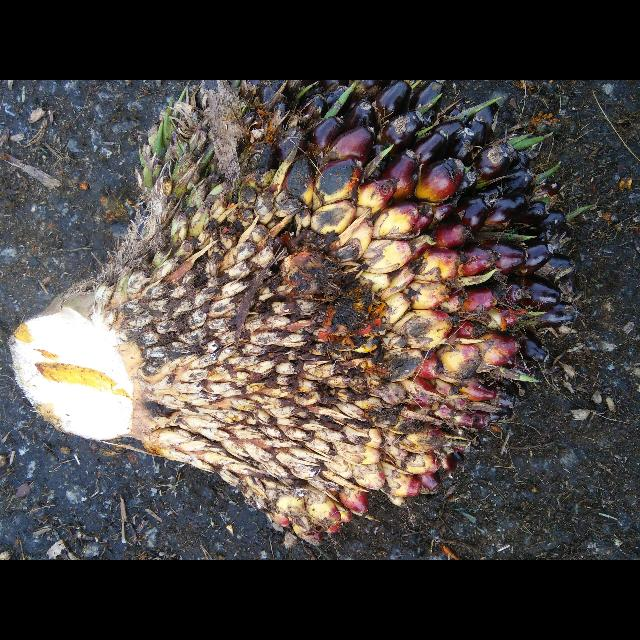Unripe: (109, 80, 575, 548)
